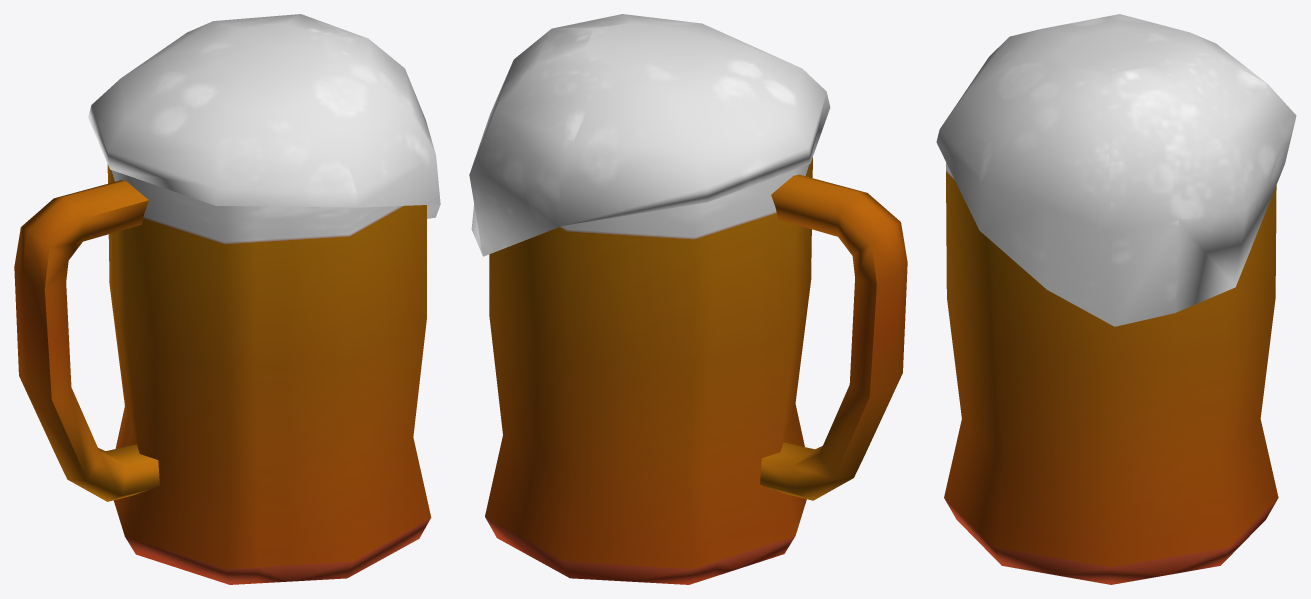
File: Balloon_BeerMug_Art.fbx
The picture shows the model from 3 angles, left to right: view 1: azimuth 30°, elevation 25°; view 2: azimuth 150°, elevation 25°; view 3: azimuth 270°, elevation 25°; orthographic projection.
Parts seen in each view (by area): view 1: Oktoberfest_Balloon_BeerMug; view 2: Oktoberfest_Balloon_BeerMug; view 3: Oktoberfest_Balloon_BeerMug.
Part boxes in pixels (box(x1,y1,x2,y2)): Oktoberfest_Balloon_BeerMug: box(14, 14, 440, 584); Oktoberfest_Balloon_BeerMug: box(469, 14, 907, 584); Oktoberfest_Balloon_BeerMug: box(936, 14, 1296, 584).
Size of the model in its own units: 826 by 923 by 637.
3 materials, 2 textured.
